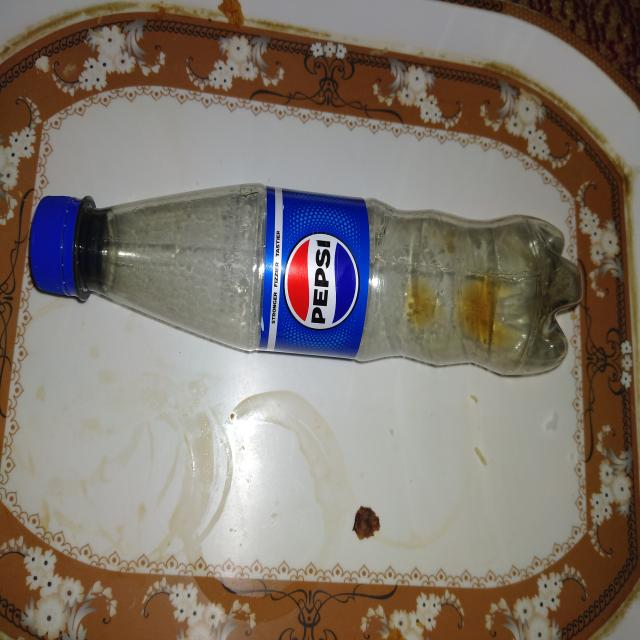general: (28, 181, 583, 378)
